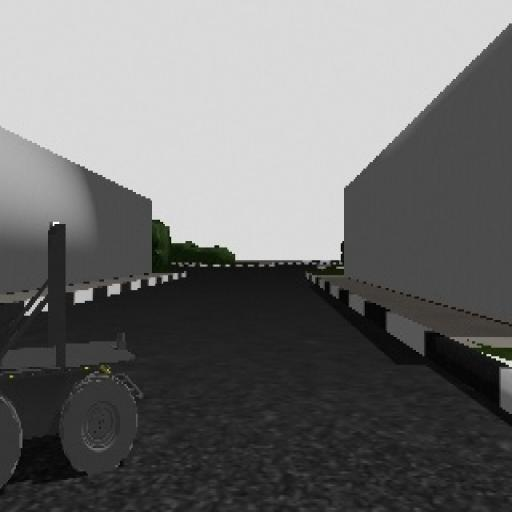huskya200: (2, 197, 156, 500)
